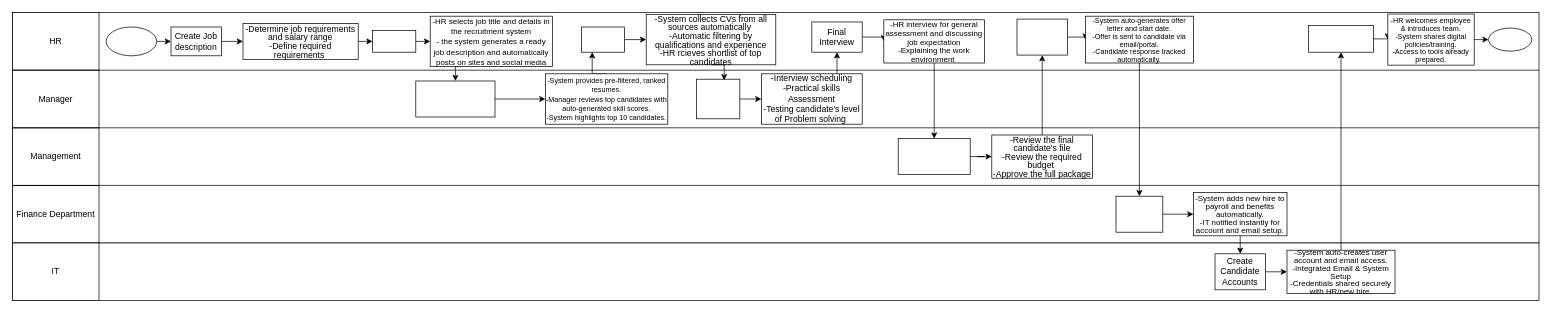
This 1552x313 diagram has some shape labels left out. The shapes that lost their labels are listed below. From the top down, each one's centre as x and y in pixels, then its label:
[131,41]: Process start
[394,41]: Post job AD
[603,39]: Recieve CVs
[1041,36]: Send job offer
[1340,38]: Employee onboarding
[1510,39]: End process
[455,98]: Review Candidate "AI-Assisted Candidate Ranking"
[718,98]: Technical interview
[933,156]: Approve Hiring and Details
[1139,213]: Setup Payroll & Benefits
